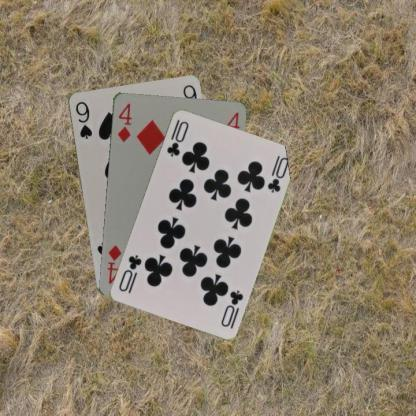10c: (218, 287, 244, 330), (164, 118, 190, 158)
4d: (115, 101, 132, 144)
9s: (73, 99, 93, 140)
